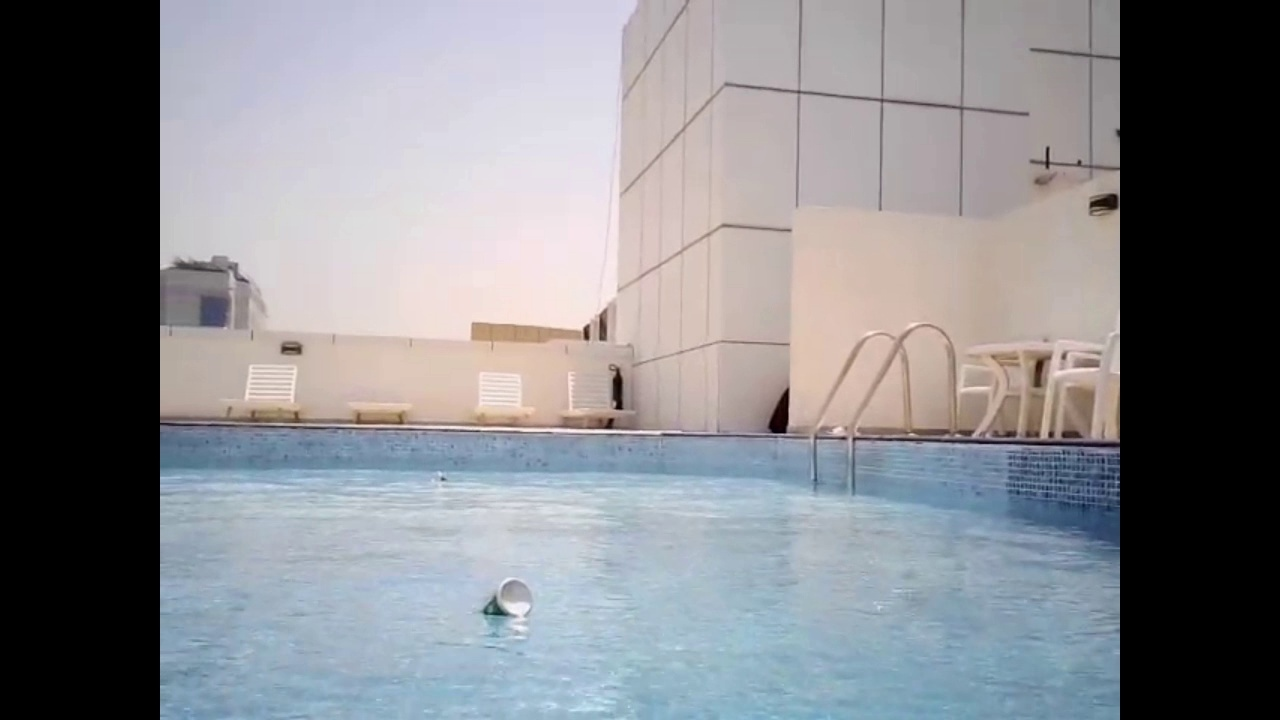debris: (470, 576, 544, 641), (432, 466, 451, 487)
